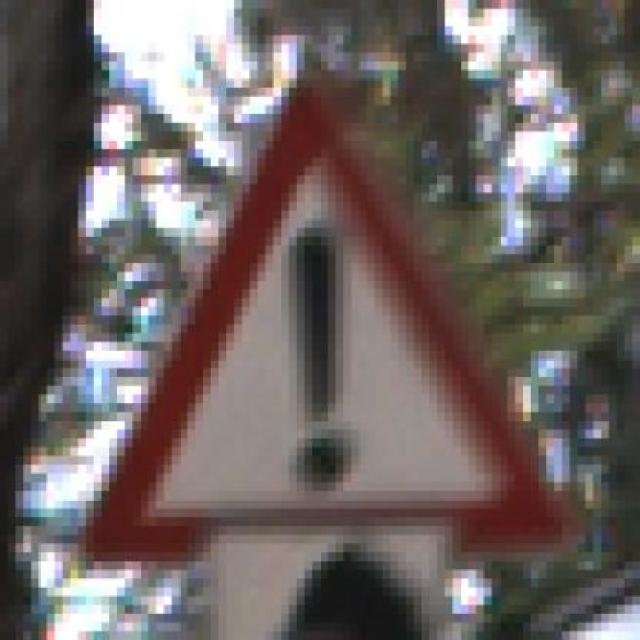Attention Please-: (78, 87, 593, 578)
